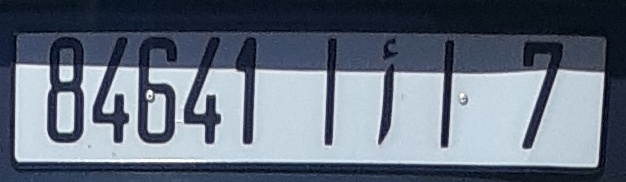1: (225, 34, 271, 155)
4: (90, 32, 134, 152), (186, 34, 230, 148)
6: (132, 29, 186, 148)
7: (512, 38, 567, 156)
8: (42, 37, 88, 149)
a: (365, 31, 417, 151)
